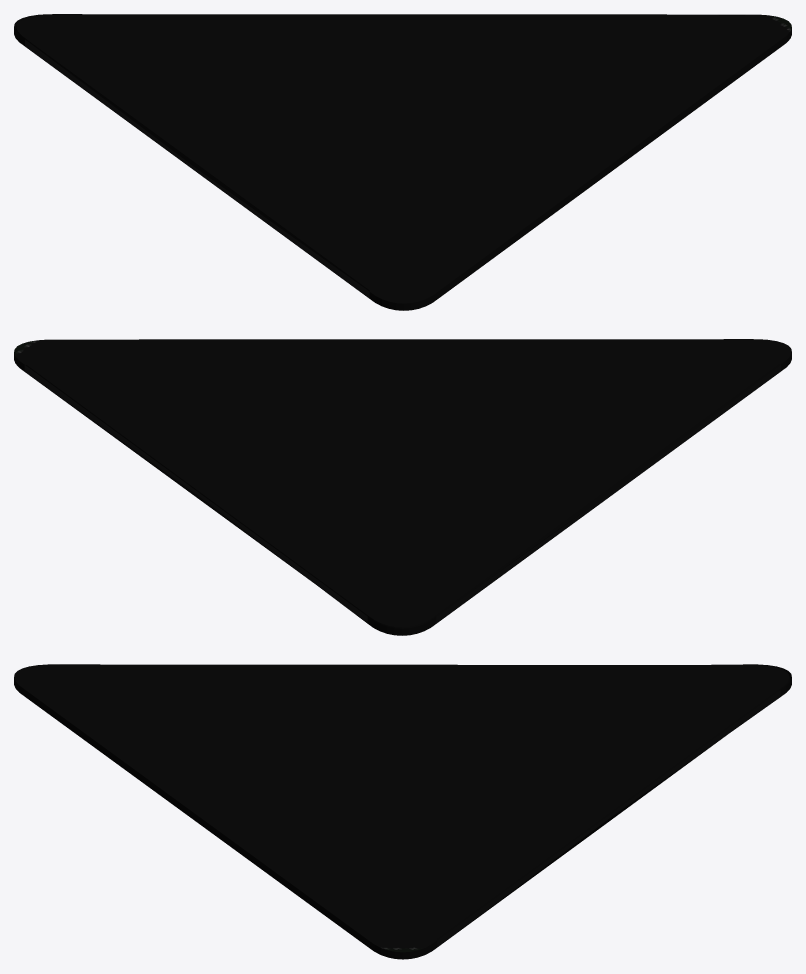
The picture shows the model from 3 angles, top to bottom: view 1: azimuth 30°, elevation 25°; view 2: azimuth 150°, elevation 25°; view 3: azimuth 270°, elevation 25°; orthographic projection.
Parts seen in each view (by area): view 1: Cube.003; view 2: Cube.003; view 3: Cube.003.
Part boxes in pixels (left/top/right/bottom): Cube.003: left=14, top=14, right=791, bottom=310; Cube.003: left=14, top=339, right=791, bottom=635; Cube.003: left=14, top=664, right=791, bottom=959.
Size of the model in its own units: 0.0743 by 0.000864 by 0.0849.
1 material, 1 textured.
